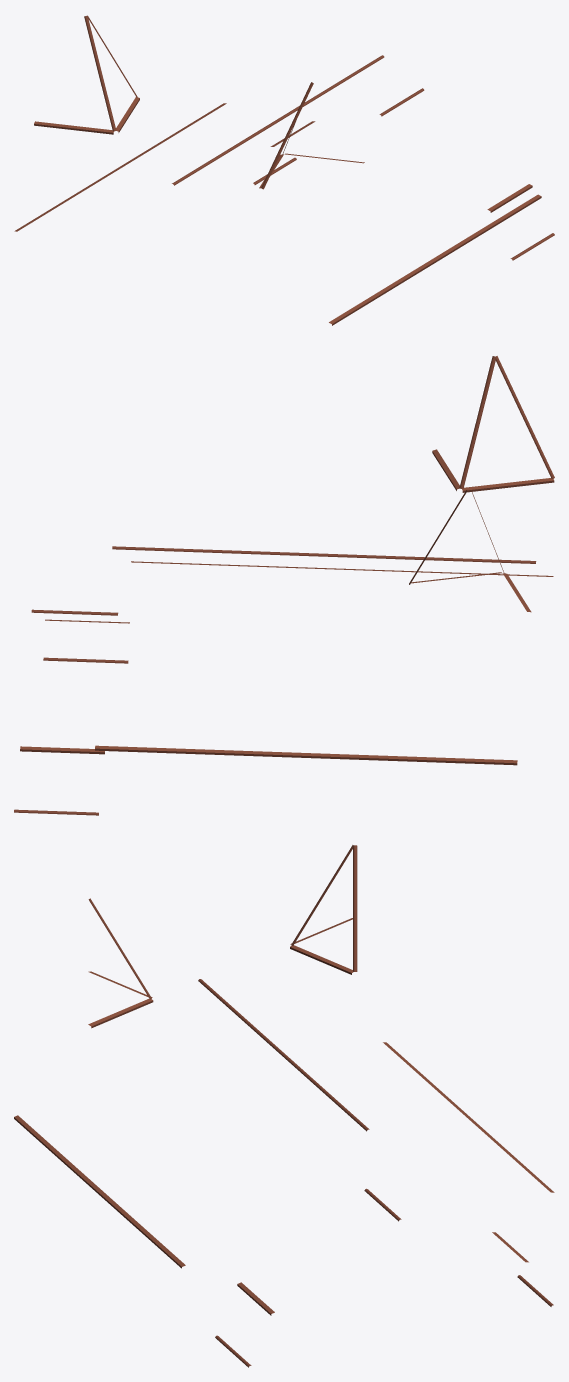
The picture shows the model from 3 angles, top to bottom: view 1: azimuth 30°, elevation 25°; view 2: azimuth 150°, elevation 25°; view 3: azimuth 270°, elevation 25°; orthographic projection. The views are drawn at different scales.
Visible parts, largest first — view 1: detail; view 2: detail; view 3: detail.
Part boxes in pixels (x1,y1,x2,y2): detail: (14, 15, 554, 325); detail: (14, 356, 554, 815); detail: (14, 845, 554, 1367).
Size of the model in its own units: 42.42 by 24.34 by 39.12.
